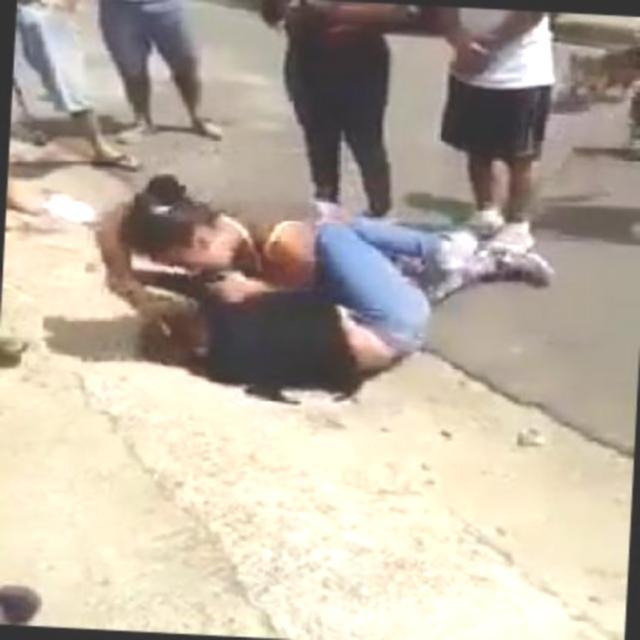fight: (80, 165, 558, 398)
